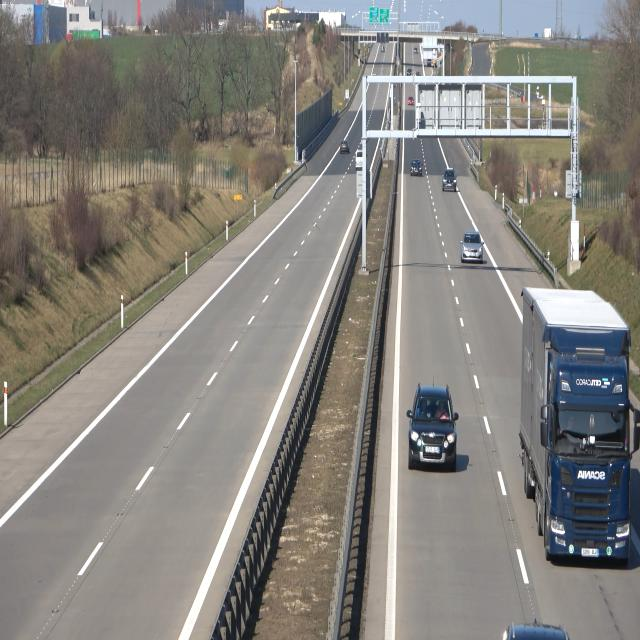Vehicle: (519, 286, 640, 565), (404, 385, 459, 473), (459, 229, 485, 266), (442, 166, 458, 193), (354, 150, 367, 170), (410, 159, 423, 178), (339, 140, 350, 154)
